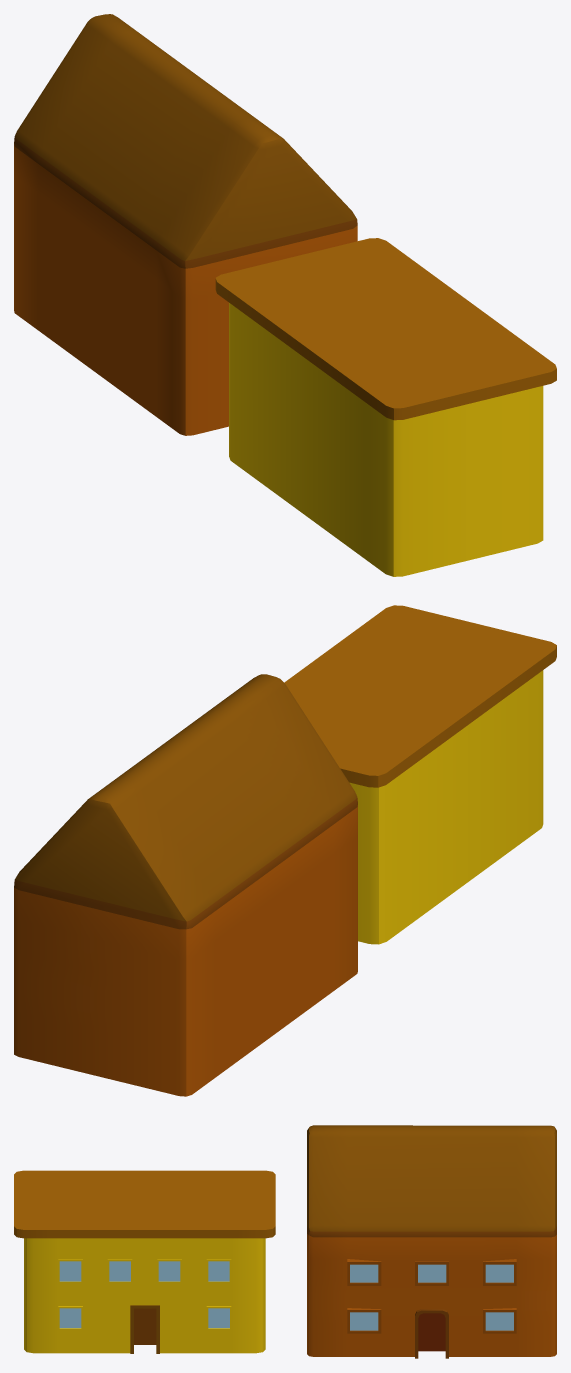
The model's file is City Street Props 02.fbx.
3 renders of one model, top to bottom at view 1: azimuth 30°, elevation 25°; view 2: azimuth 150°, elevation 25°; view 3: azimuth 270°, elevation 25°, orthographic. The views are drawn at different scales.
Visible parts, largest first — view 1: Cube.002, Cube.001; view 2: Cube.002, Cube.001; view 3: Cube.002, Cube.001.
Boxes of the visible parts, x1,y1,x2,y2 form: Cube.002: (14, 14, 357, 435); Cube.001: (215, 238, 556, 576); Cube.002: (14, 674, 357, 1096); Cube.001: (284, 605, 556, 944); Cube.002: (307, 1125, 556, 1358); Cube.001: (14, 1170, 275, 1353).
Bounding box in the file's own units: 233 × 338 × 840.
